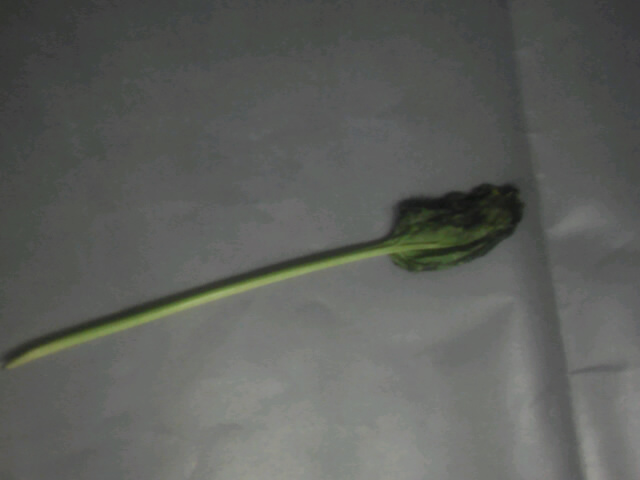yellow: (160, 188, 523, 280)
